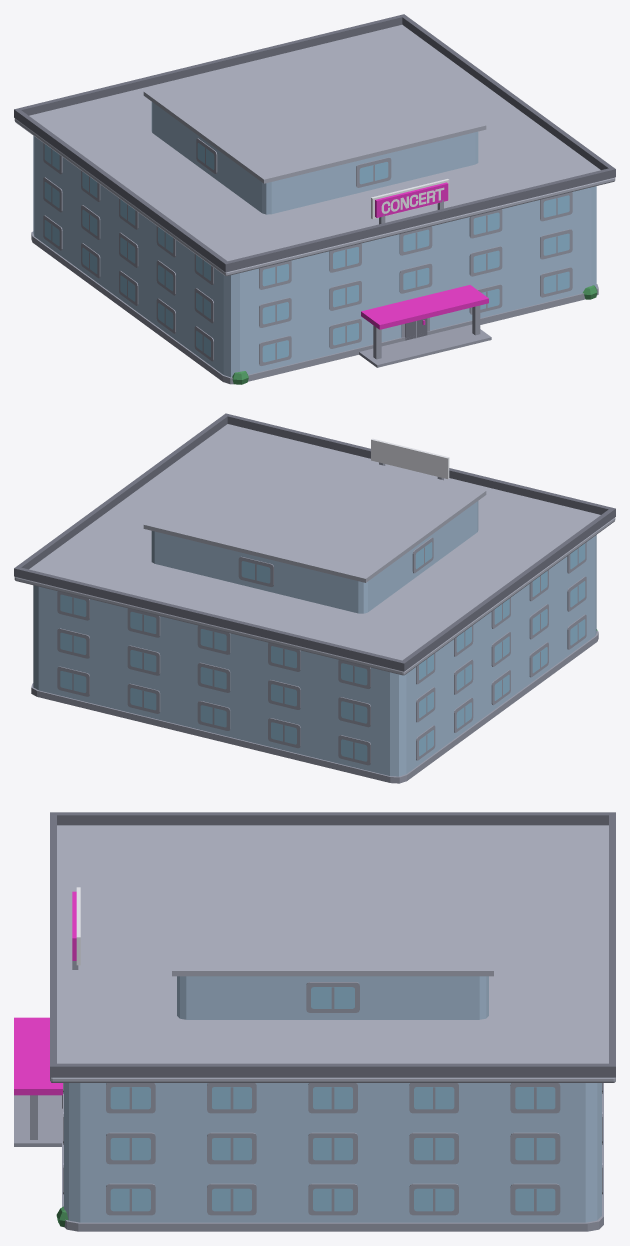
The model's file is concert-hall-3x3-3f.glb.
3 renders of one model, top to bottom at view 1: azimuth 30°, elevation 25°; view 2: azimuth 150°, elevation 25°; view 3: azimuth 270°, elevation 25°, orthographic. The views are drawn at different scales.
Parts seen in each view (by area): view 1: concert-hall-3x3-3f; view 2: concert-hall-3x3-3f; view 3: concert-hall-3x3-3f.
Part boxes in pixels (x1,y1,x2,y2): concert-hall-3x3-3f: (14,14,615,384); concert-hall-3x3-3f: (14,413,615,783); concert-hall-3x3-3f: (14,812,615,1231).
Bounding box in the file's own units: 3 × 1.16 × 3.
Materials: 1 (1 with a texture image).
